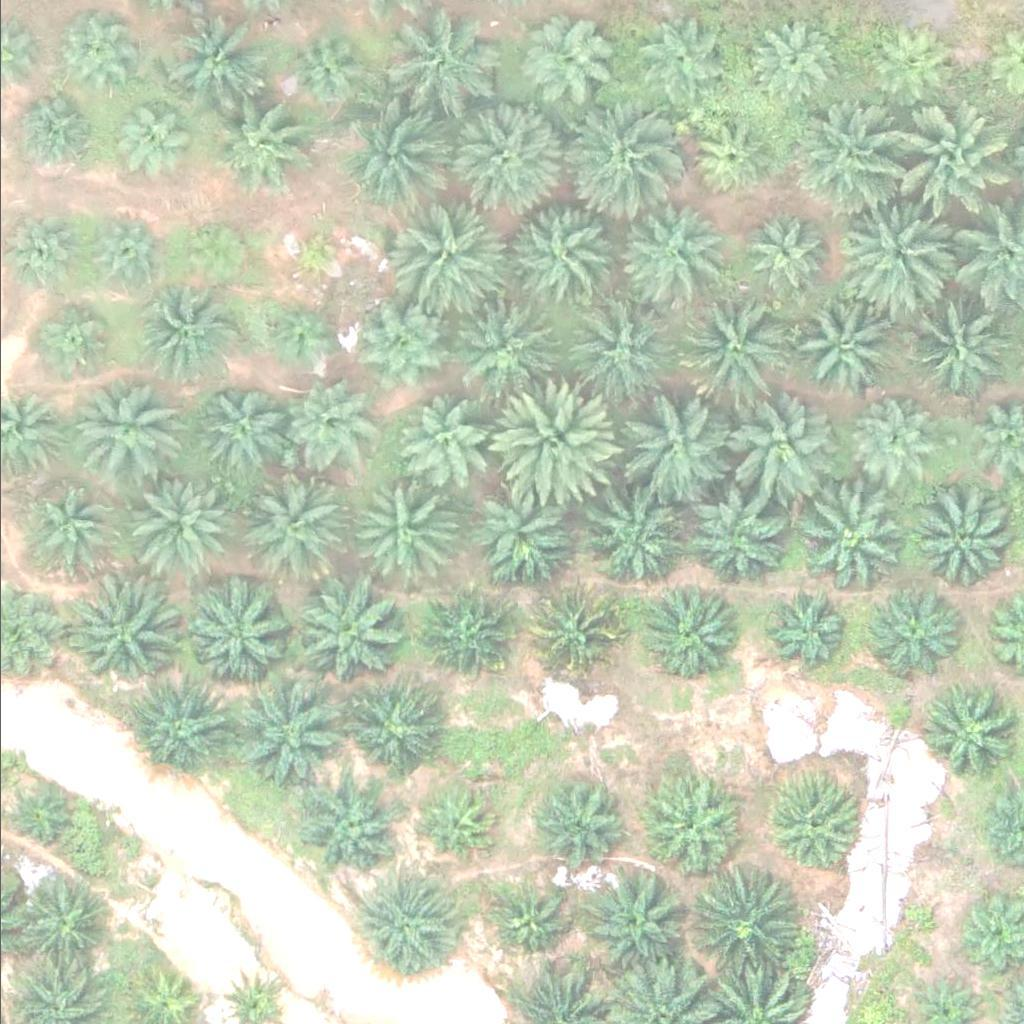Kelapa_Sawit: (489, 384, 615, 509), (623, 386, 737, 499), (894, 287, 1008, 400), (236, 675, 349, 788), (292, 576, 405, 689), (181, 580, 294, 693), (676, 288, 789, 401), (564, 292, 677, 405), (509, 199, 622, 312), (448, 96, 561, 209), (682, 865, 795, 978), (793, 480, 906, 593), (791, 103, 904, 216), (718, 393, 831, 506), (345, 96, 459, 208), (907, 486, 1021, 598), (886, 109, 1000, 221), (69, 579, 182, 691), (608, 192, 721, 304), (391, 197, 504, 309), (557, 94, 670, 206), (844, 199, 957, 311), (585, 866, 686, 966), (8, 872, 109, 972), (127, 674, 228, 774), (643, 586, 744, 686), (584, 493, 685, 593), (347, 479, 448, 579), (235, 474, 336, 574), (127, 470, 228, 570), (455, 296, 556, 396), (354, 298, 455, 398), (206, 90, 307, 190), (157, 4, 258, 104), (385, 4, 486, 104), (913, 681, 1014, 781), (791, 299, 892, 399), (140, 289, 241, 389), (351, 874, 451, 974), (643, 777, 743, 877), (298, 780, 398, 880), (678, 488, 778, 588), (478, 478, 578, 578), (76, 381, 176, 481), (520, 11, 620, 111), (758, 775, 858, 875), (858, 583, 958, 683), (538, 774, 626, 862), (343, 685, 431, 773), (532, 585, 620, 673), (280, 378, 368, 466), (683, 111, 771, 199), (281, 25, 369, 113), (763, 584, 851, 672), (738, 211, 826, 299), (859, 19, 947, 107), (192, 381, 281, 468), (632, 11, 721, 98), (424, 588, 512, 675), (22, 488, 110, 575), (400, 396, 488, 483), (78, 213, 166, 300), (844, 402, 932, 489), (750, 18, 838, 105), (107, 96, 183, 171), (19, 98, 95, 173), (259, 297, 335, 372), (419, 786, 495, 861), (172, 216, 248, 291), (38, 304, 113, 379), (53, 16, 128, 91), (494, 881, 569, 956), (284, 223, 347, 285)
